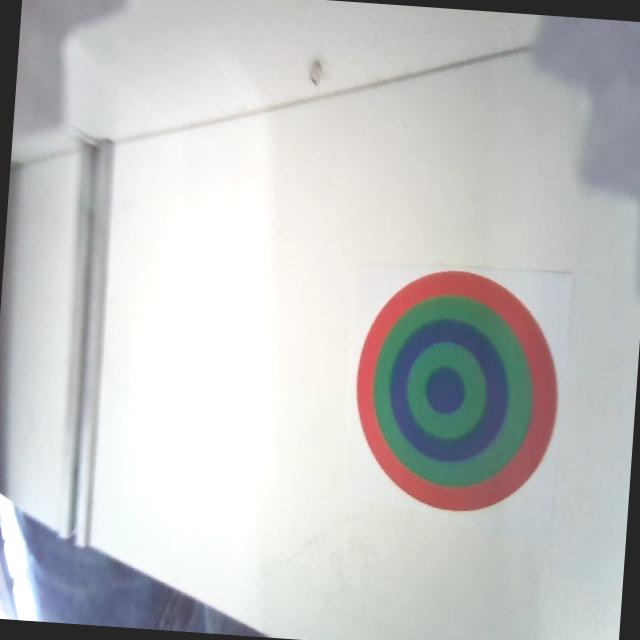cogn: (348, 264, 563, 517)
